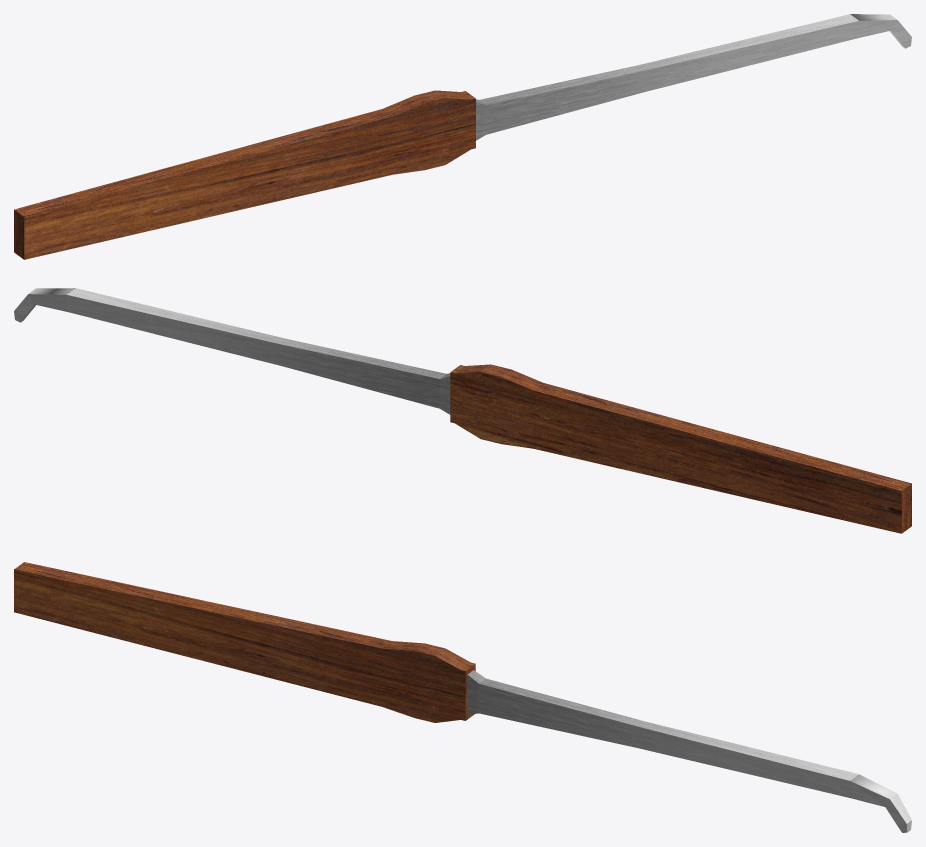
Rendered from pick.FBX.
The picture shows the model from 3 angles, top to bottom: view 1: azimuth 30°, elevation 25°; view 2: azimuth 150°, elevation 25°; view 3: azimuth 330°, elevation 25°; orthographic projection.
Visible parts, largest first — view 1: Box001; view 2: Box001; view 3: Box001.
Boxes of the visible parts, bbox=[...] form: Box001: bbox=[14, 14, 911, 259]; Box001: bbox=[14, 288, 911, 533]; Box001: bbox=[14, 562, 911, 832].
Size of the model in its own units: 92.5 by 6.67 by 1.85.
